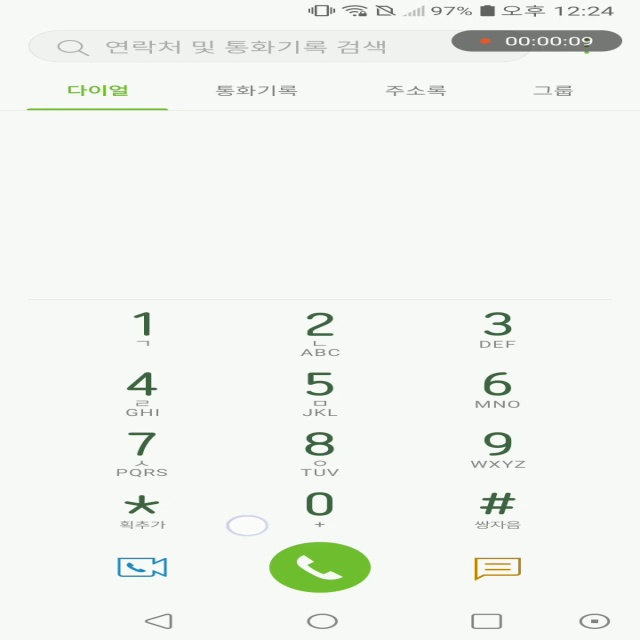Cursor: (226, 515, 271, 537)
